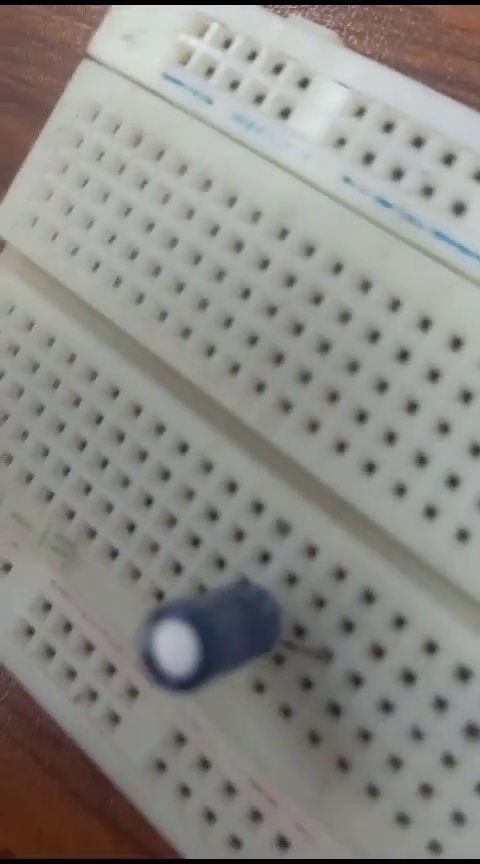capacitor: (121, 587, 310, 684)
